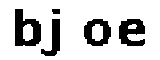b: (11, 7, 44, 49)
e: (116, 17, 150, 52)
j: (42, 8, 73, 60)
o: (82, 18, 111, 48)
